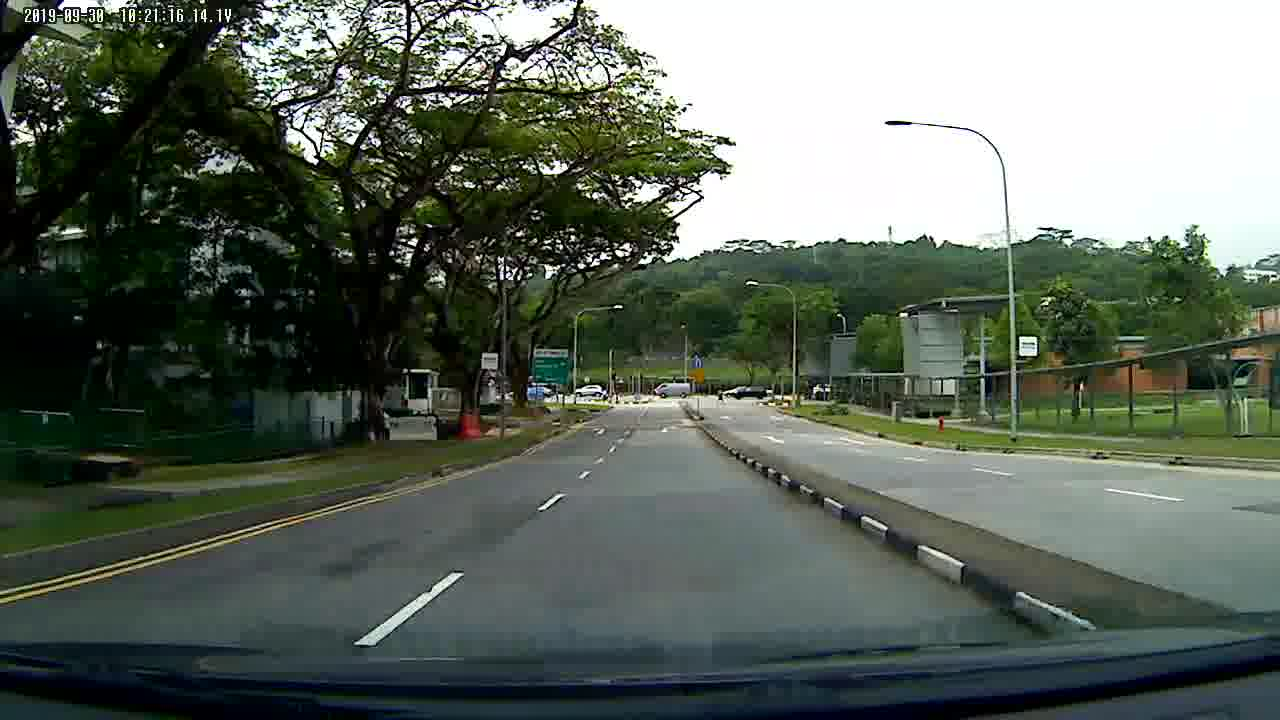car: (574, 383, 604, 396)
